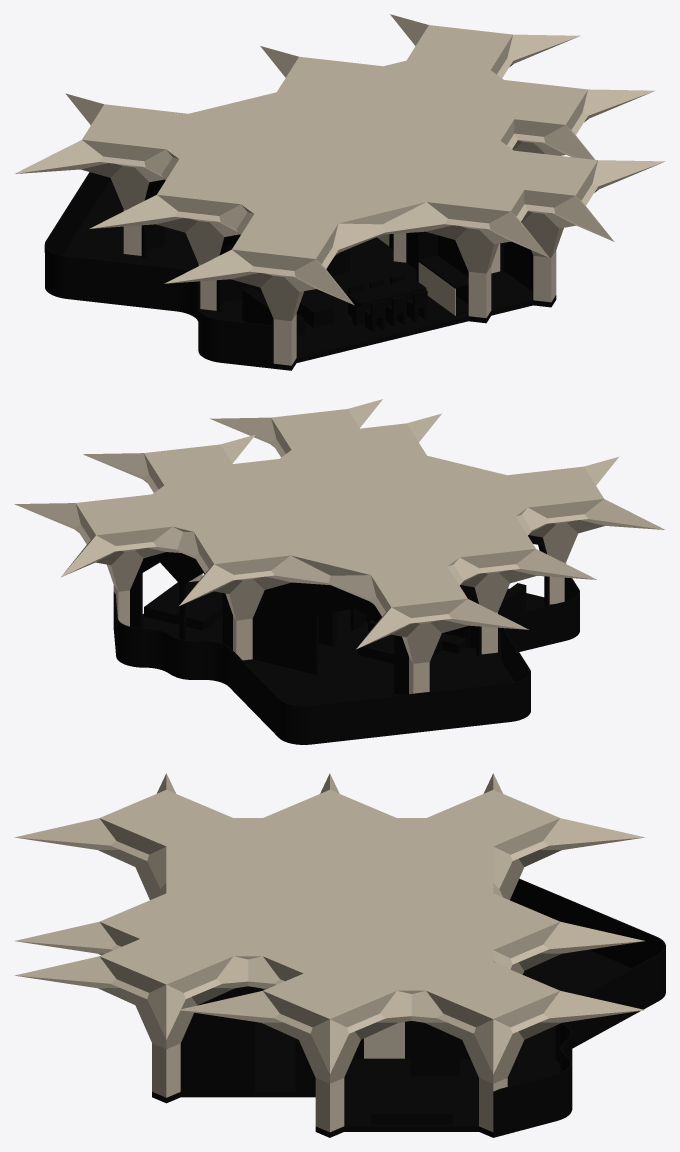
3 renders of one model, top to bottom at view 1: azimuth 30°, elevation 25°; view 2: azimuth 150°, elevation 25°; view 3: azimuth 270°, elevation 25°, orthographic. The views are drawn at different scales.
Visible parts, largest first — view 1: santech, object 3, object 4, object 2, object 40, object 59, object 60, object 54, object 41, object 50, object 43, object 51; view 2: santech, object 3, object 2, object 11, object 4, object 5, object 9, object 10, object 25, object 43; view 3: santech, object 3, object 4, object 60, object 2, object 9, object 7, object 27.
Boxes of the visible parts, x1,y1,x2,y2 form: santech: [15, 14, 665, 365]; object 3: [44, 172, 273, 363]; object 4: [145, 237, 556, 370]; object 2: [45, 181, 273, 368]; object 40: [347, 278, 426, 325]; object 59: [406, 232, 468, 304]; object 60: [504, 241, 533, 291]; object 54: [222, 244, 350, 302]; object 41: [297, 292, 333, 327]; object 50: [418, 255, 468, 288]; object 43: [242, 287, 273, 325]; object 51: [416, 231, 437, 281]; santech: [14, 399, 664, 693]; object 3: [113, 577, 579, 740]; object 2: [113, 604, 579, 744]; object 11: [252, 582, 408, 694]; object 4: [142, 581, 545, 693]; object 5: [130, 552, 232, 649]; object 9: [144, 582, 222, 630]; object 10: [357, 633, 450, 663]; object 25: [319, 611, 336, 646]; object 43: [498, 583, 526, 616]; santech: [14, 773, 645, 1132]; object 3: [493, 878, 665, 1132]; object 4: [152, 1022, 493, 1137]; object 60: [180, 986, 315, 1091]; object 2: [493, 949, 665, 1137]; object 9: [371, 1079, 452, 1124]; object 7: [410, 1021, 459, 1076]; object 27: [364, 1022, 404, 1058].
Bounding box in the file's own units: 17.46 × 3.81 × 15.96.
